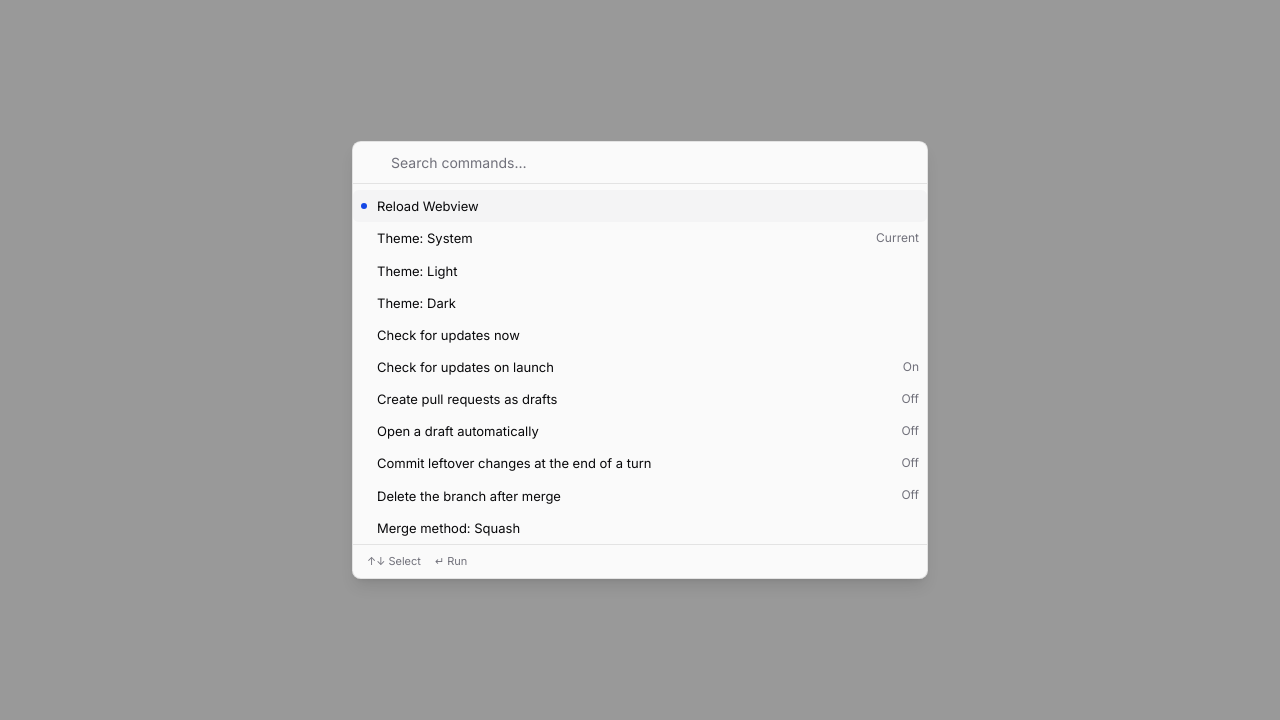
Test case: CommandPalette › shows no results for a query nothing matches
Type "settings" into the search field labelled "Search commands" at (652, 162), box top-left (391, 152), bottom-right (913, 173)
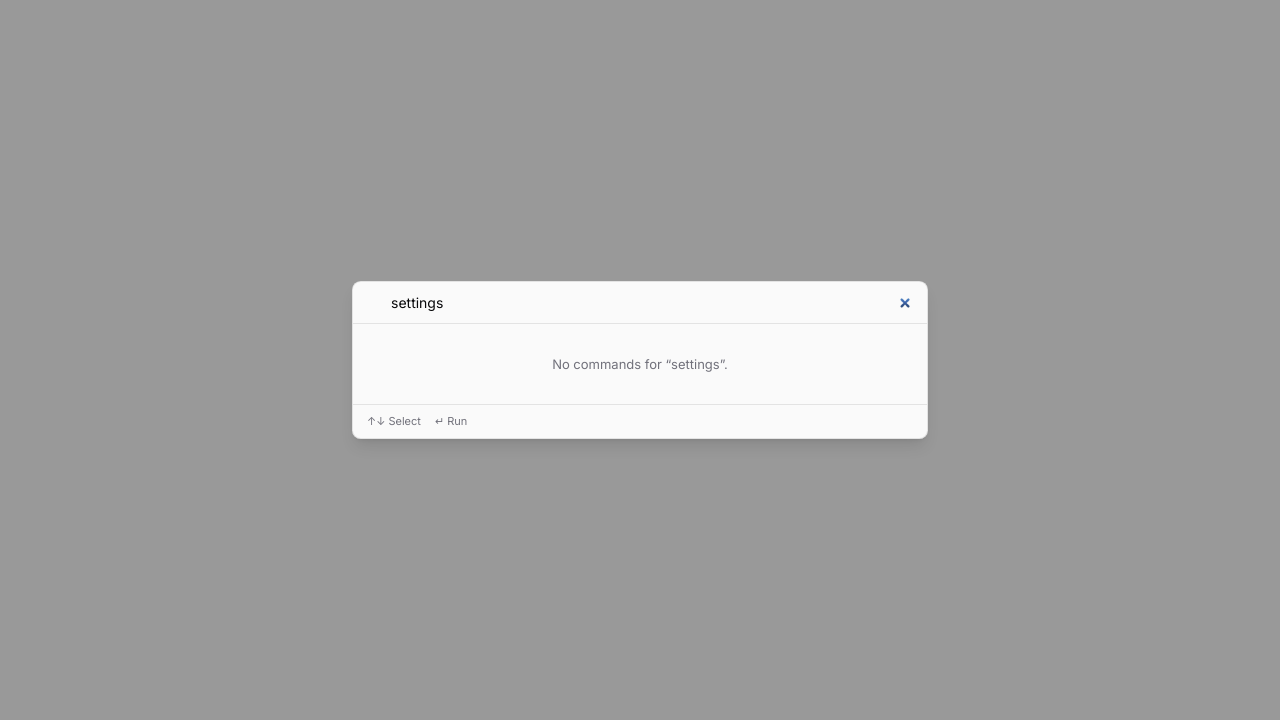
Check: the option is gone
Check: the text "No commands for “settings”." is shown, box top-left (552, 356), bottom-right (728, 372)
